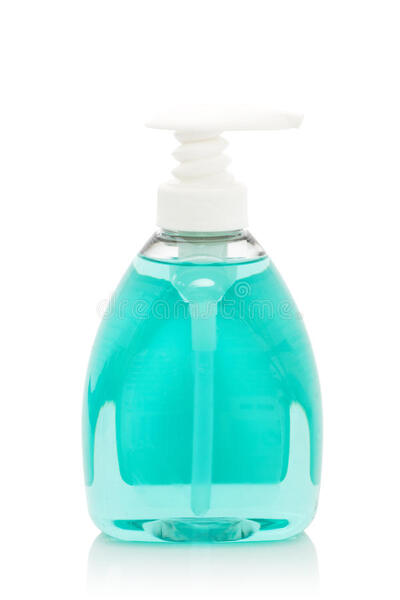handsanitizer: (83, 102, 330, 555)
